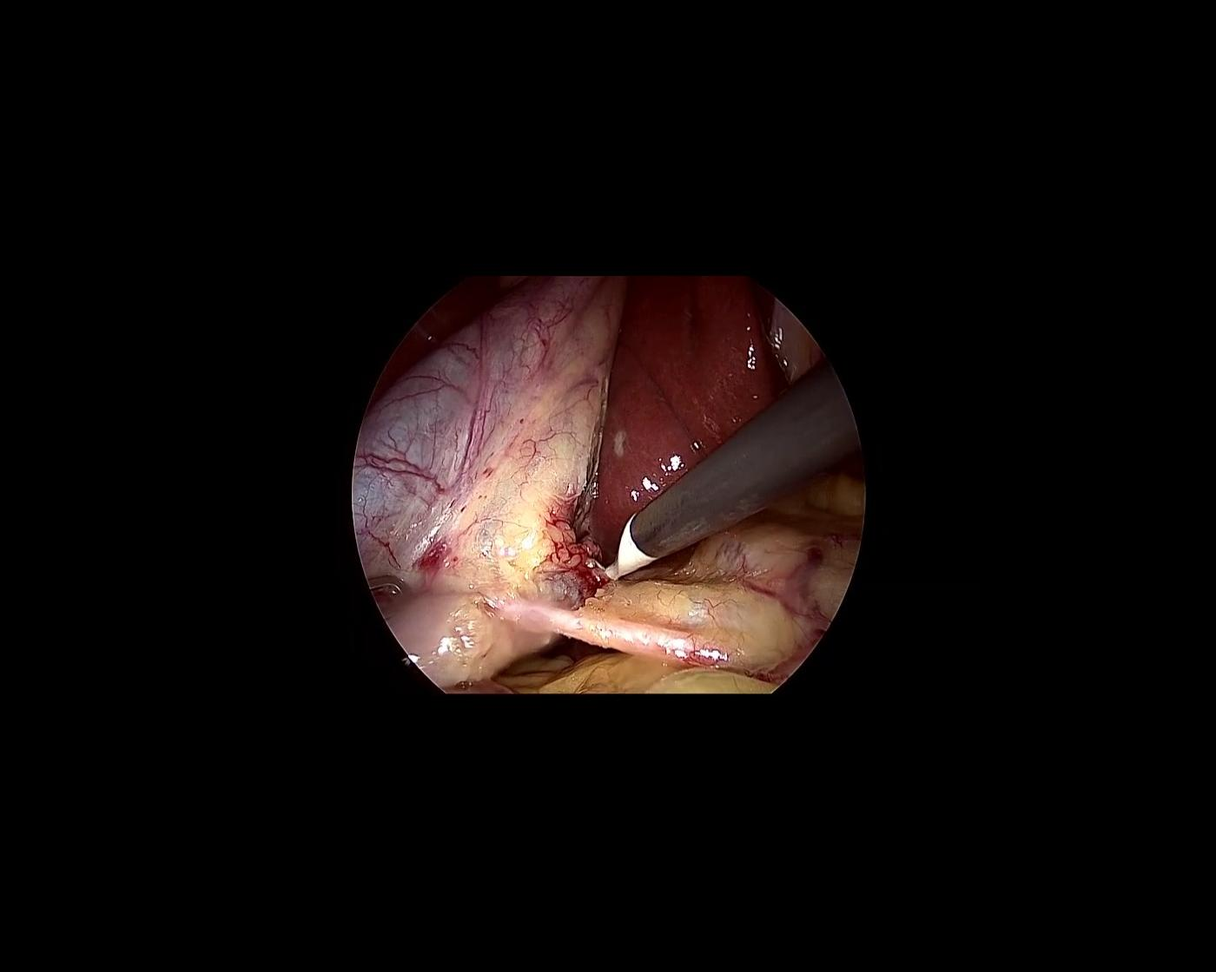Cautery: (586, 359, 882, 628)
Gallbladder: (316, 235, 627, 699)
Liver: (483, 223, 820, 557)
